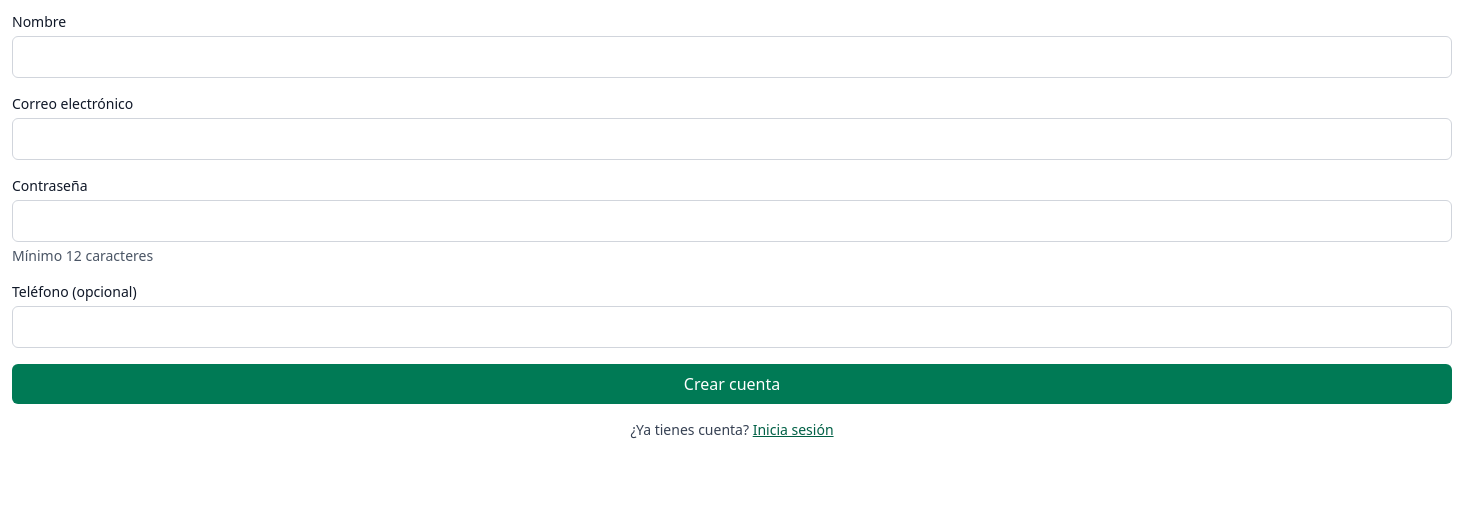
SignupForm › muestra el error general como alerta
This screenshot has width=1464, height=508.
In the field labelled "Nombre": (732, 57) [12,36,1452,78], type "Alex Vecino"
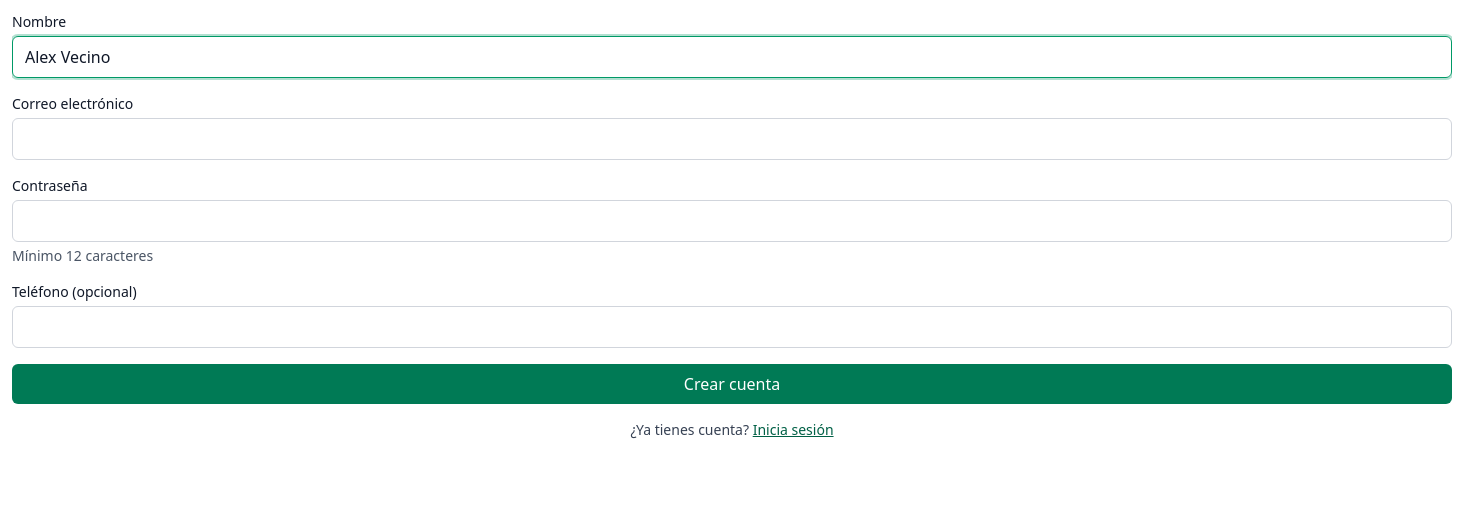
In the field labelled "Correo electrónico": (732, 139) [12,118,1452,160], type "vecino@example.com"
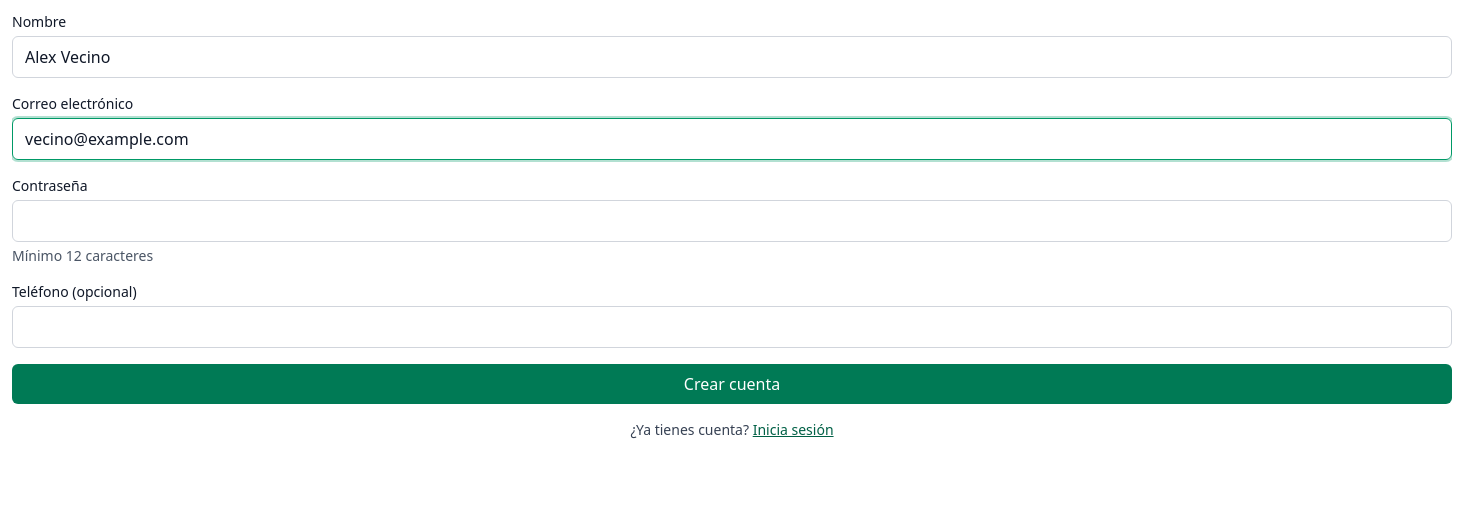
In the password field labelled "Contraseña": (732, 221) [12,200,1452,242], type "una-clave-cualquiera"
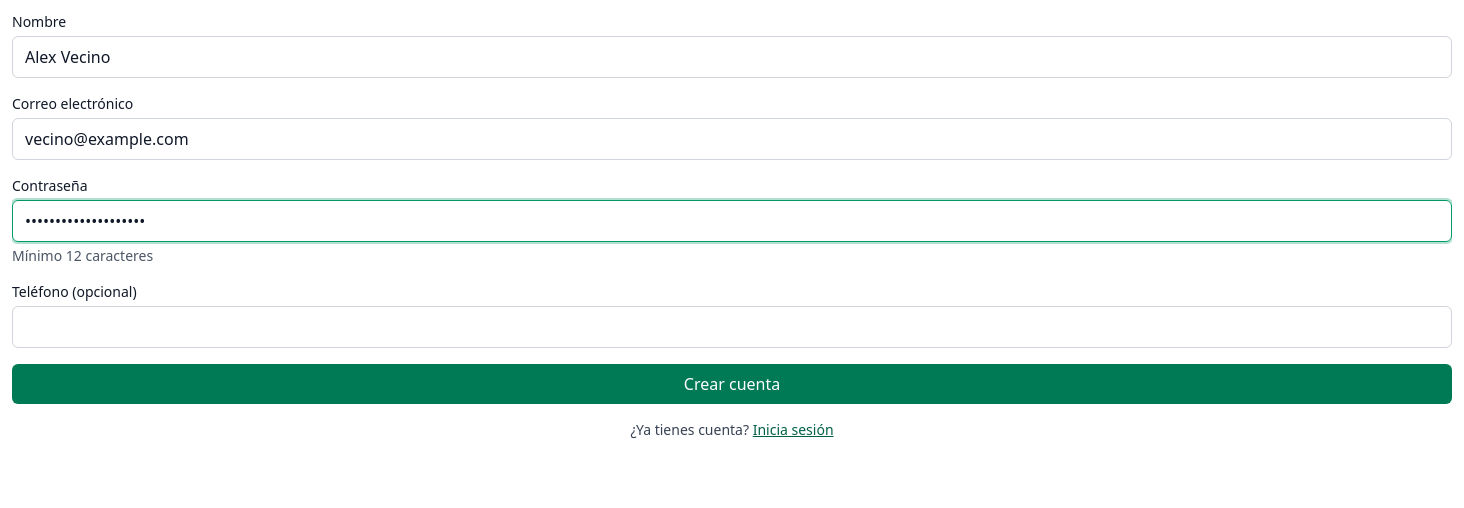
Click the button "Crear cuenta": (732, 384) [12,364,1452,404]
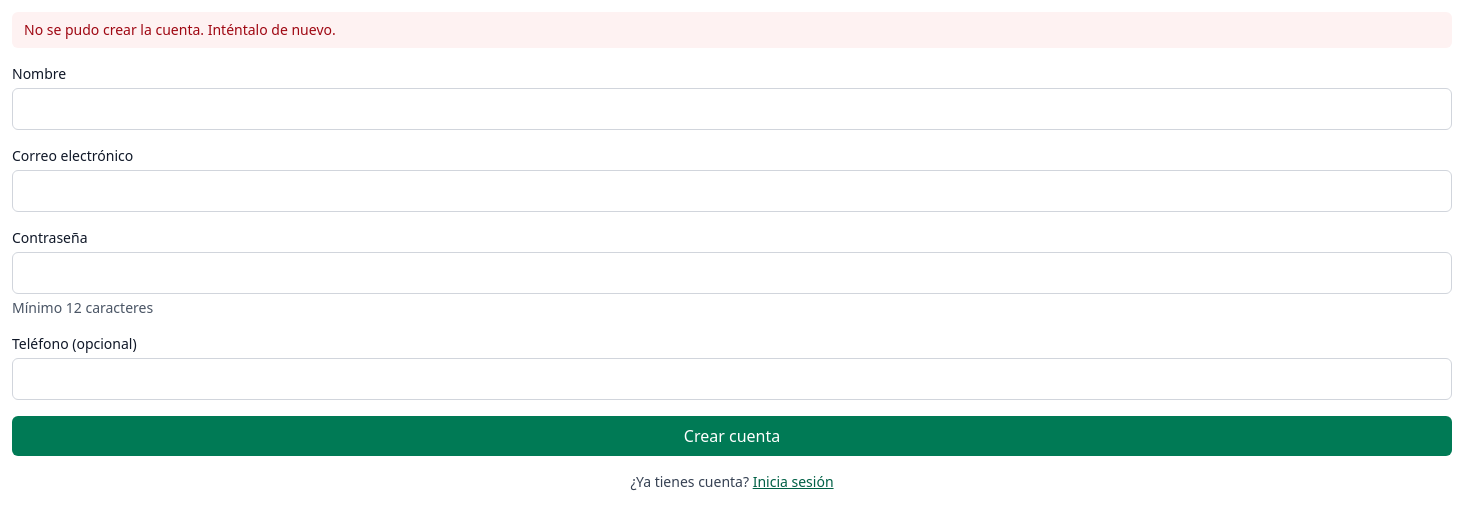
Check: the message reads "No se pudo crear la cuenta. Inténtalo de nuevo.", box [24,20,336,39]
